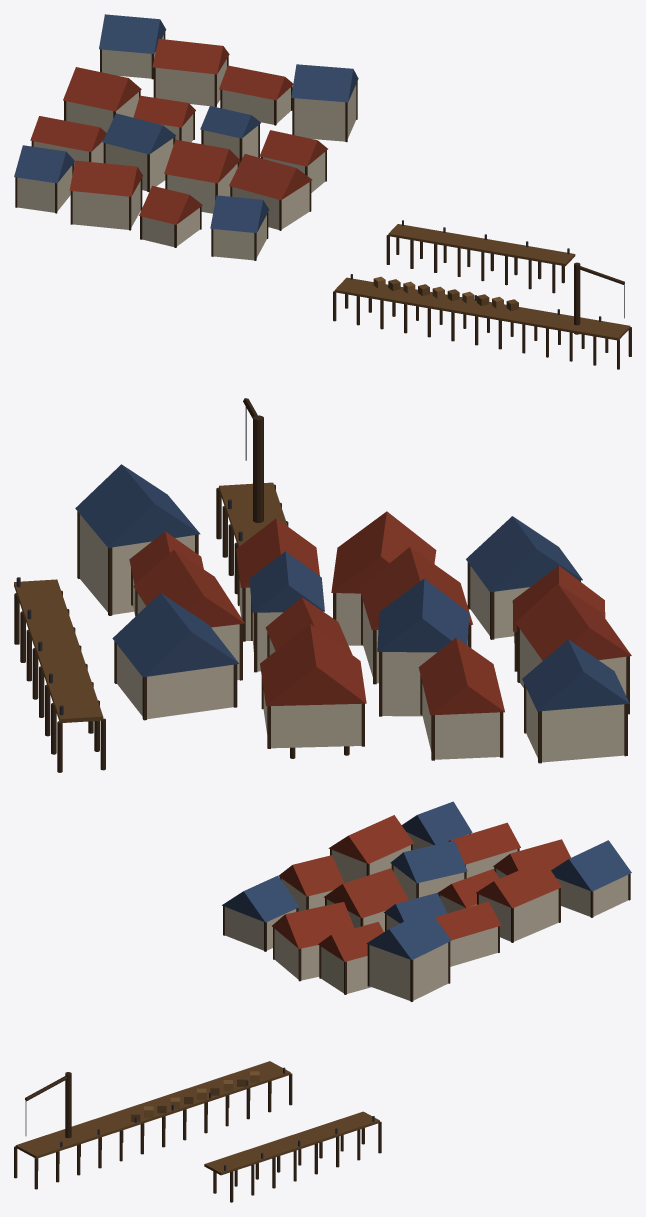
Rendered from arch_gullhaven_port.glb.
3 views of the same model, one above another, from view 1: azimuth 30°, elevation 25°; view 2: azimuth 150°, elevation 25°; view 3: azimuth 270°, elevation 25° (orthographic). The views are drawn at different scales.
Visible parts, largest first — view 1: geometry_0; view 2: geometry_0; view 3: geometry_0.
Part boxes in pixels (x1,y1,x2,y2): geometry_0: (14, 14, 631, 369); geometry_0: (14, 398, 631, 772); geometry_0: (14, 801, 631, 1202).
Size of the model in its own units: 83.36 by 35.64 by 91.81.
